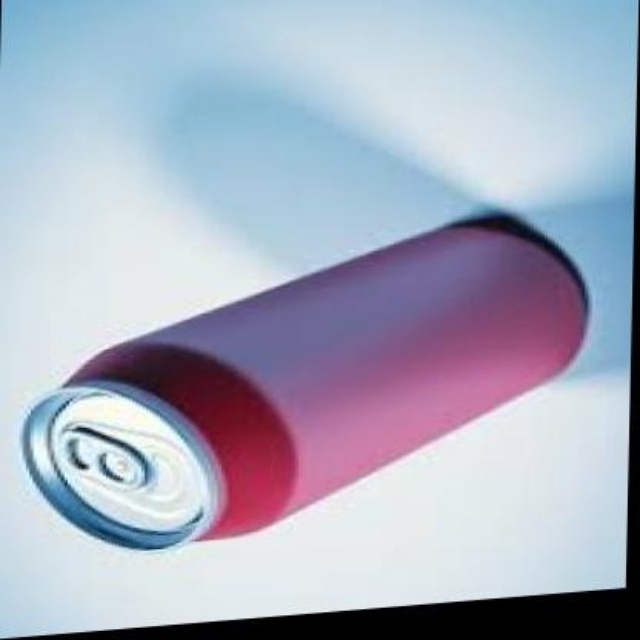trash: (23, 214, 586, 548)
